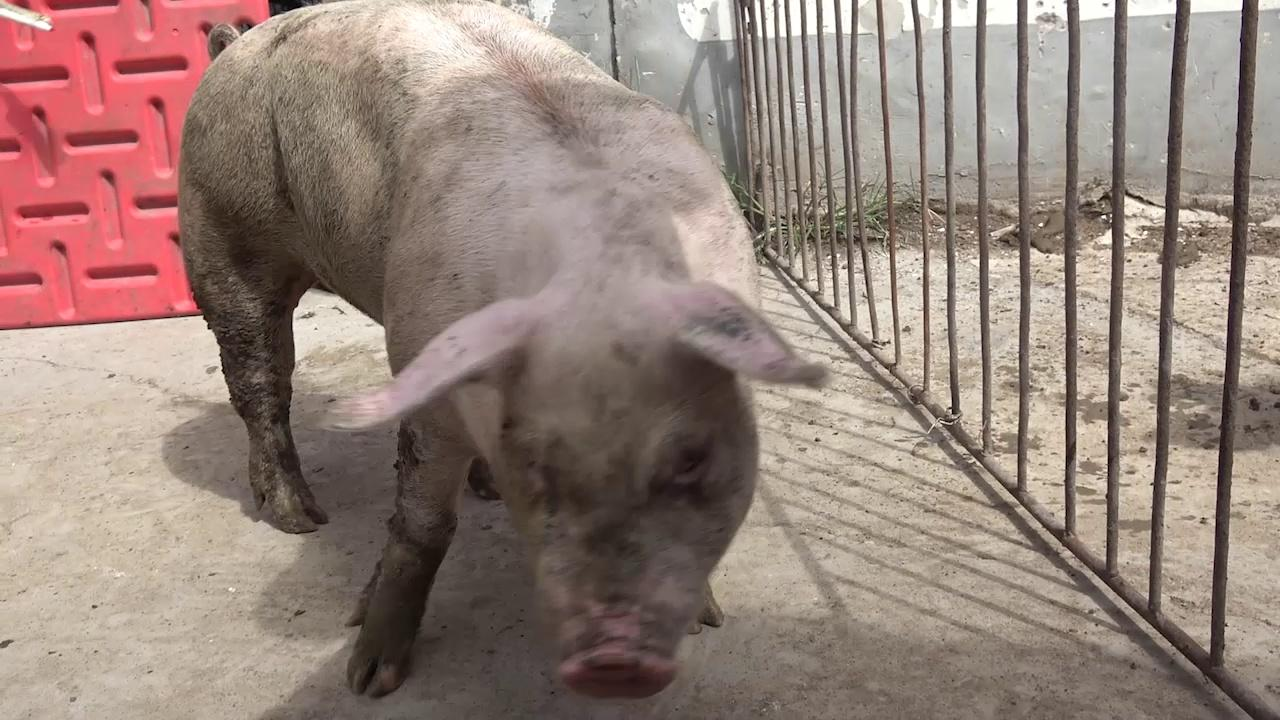Face: (325, 287, 840, 705)
